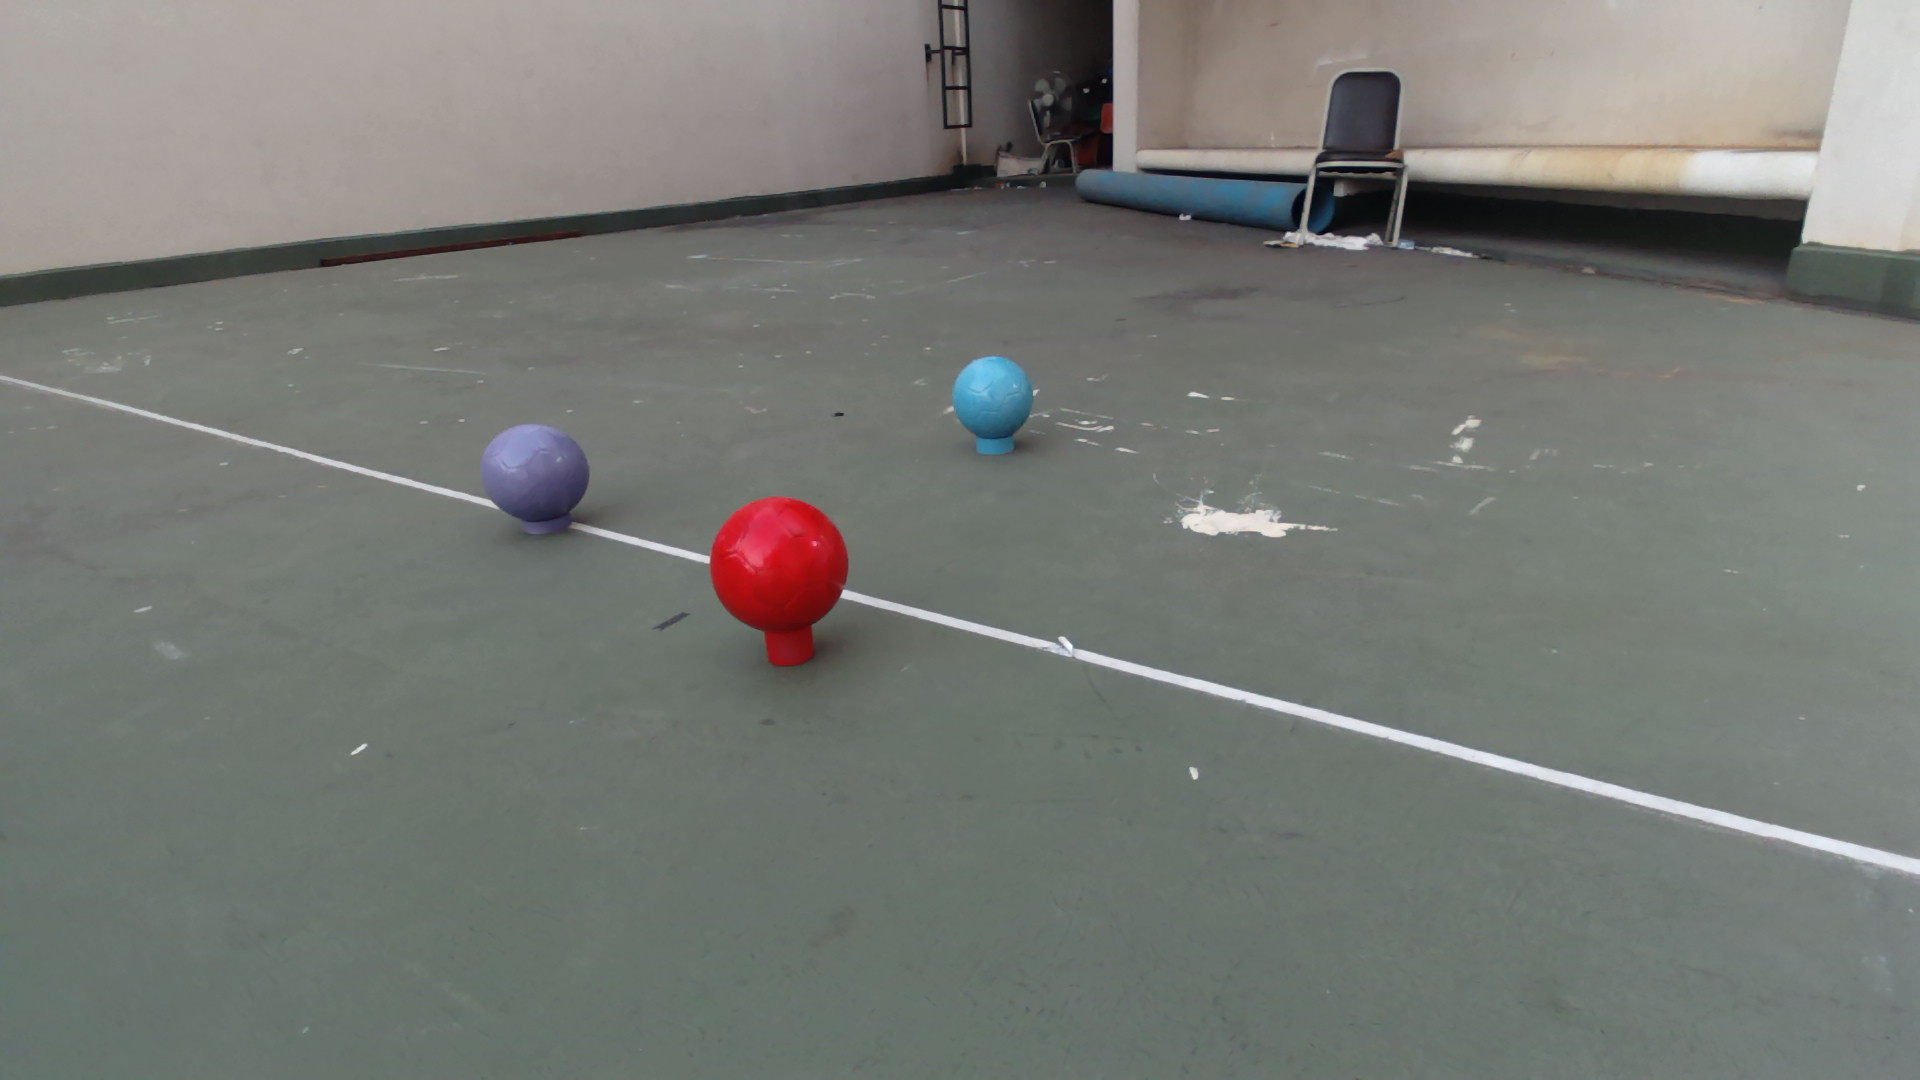Blue ball: (951, 355, 1036, 440)
Purple ball: (481, 423, 591, 522)
Red ball: (708, 496, 851, 632)
